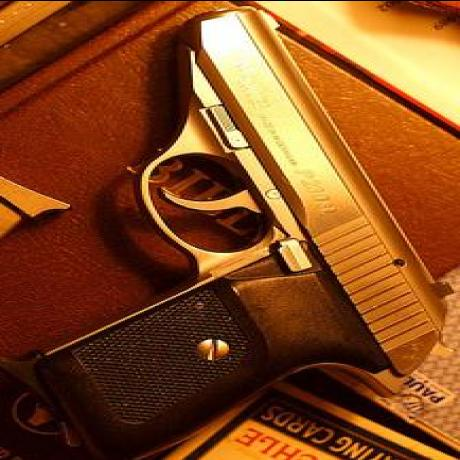weapon: (35, 9, 446, 457)
